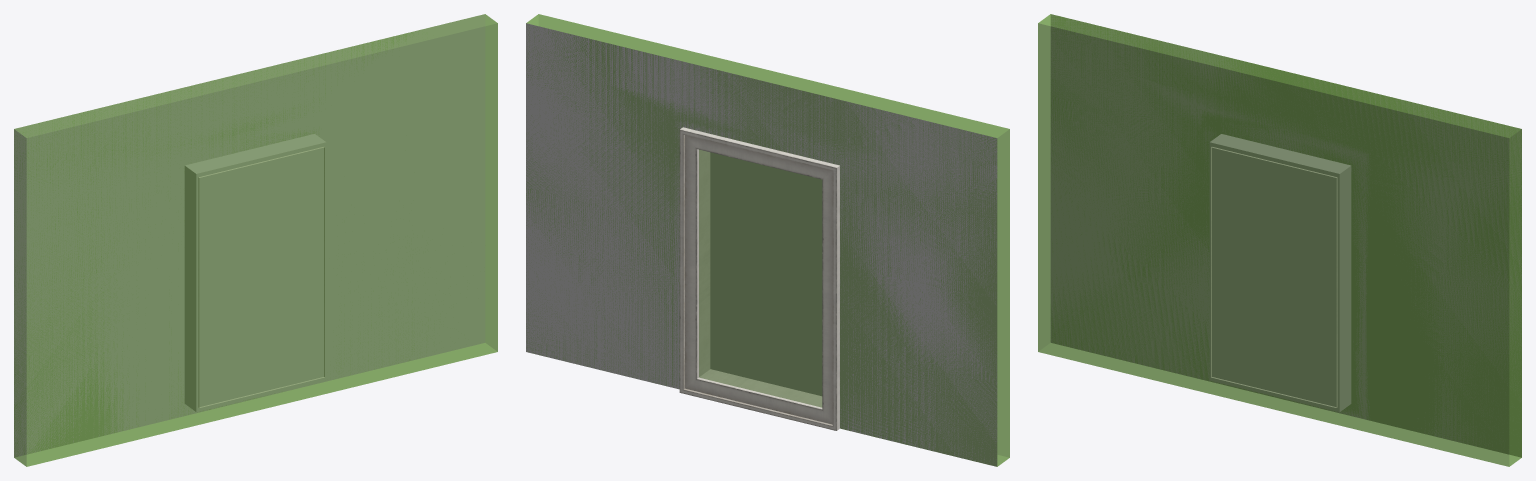
File: F2_md_Wall_4x6_WL_01.fbx
3 renders of one model, left to right at view 1: azimuth 30°, elevation 25°; view 2: azimuth 150°, elevation 25°; view 3: azimuth 330°, elevation 25°, orthographic.
Visible parts, largest first — view 1: F2_md_Wall_4x6_WL_01_col_01, F2_md_Wall_4x6_WL_01_LOD0; view 2: F2_md_Wall_4x6_WL_01_LOD0, F2_md_Wall_4x6_WL_01_col_01; view 3: F2_md_Wall_4x6_WL_01_col_01, F2_md_Wall_4x6_WL_01_LOD0.
Boxes of the visible parts, x1,y1,x2,y2 form: F2_md_Wall_4x6_WL_01_col_01: (14,14,497,466); F2_md_Wall_4x6_WL_01_LOD0: (14,14,485,457); F2_md_Wall_4x6_WL_01_LOD0: (526,23,997,466); F2_md_Wall_4x6_WL_01_col_01: (526,14,1009,466); F2_md_Wall_4x6_WL_01_col_01: (1038,14,1521,466); F2_md_Wall_4x6_WL_01_LOD0: (1050,14,1521,457).
Size of what is drawn, in the model's own units: 600 by 400 by 35.6.
